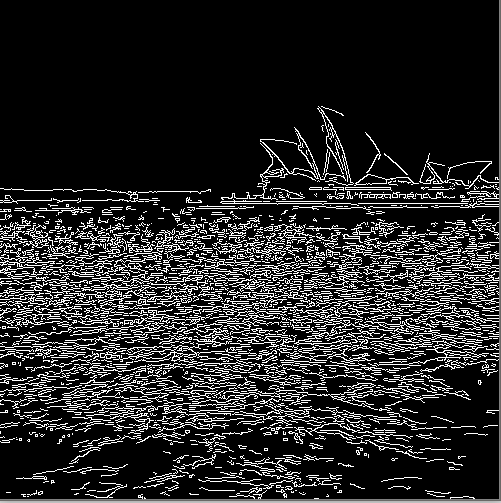opera house: (221, 88, 489, 207)
